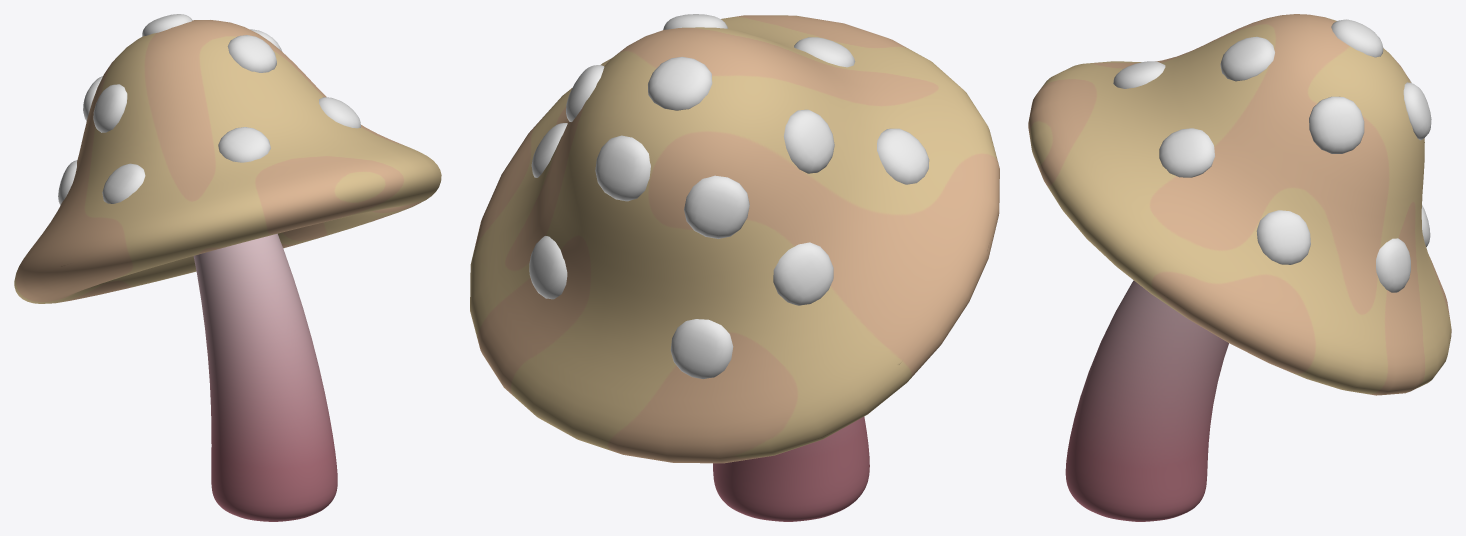
File: Mushroom.fbx
3 views of the same model, side by side, from view 1: azimuth 30°, elevation 25°; view 2: azimuth 150°, elevation 25°; view 3: azimuth 270°, elevation 25° (orthographic). The views are drawn at different scales.
Parts seen in each view (by area): view 1: mushroom, 柱体.006, 立方体.016, 立方体.017, 立方体.012, 立方体.015, 立方体, 立方体.008; view 2: mushroom, 柱体.006, 立方体.006, 立方体.004, 立方体.013, 立方体.007, 立方体.008, 立方体.012, 立方体.015, 立方体.005, 立方体.016, 立方体.003 (+2 smaller); view 3: mushroom, 柱体.006, 立方体.003, 立方体.002, 立方体, 立方体.017, 立方体.005, 立方体.008, 立方体.007, 立方体.016.
Part boxes in pixels (x1,y1,x2,y2): mushroom: [14, 20, 441, 303]; 柱体.006: [193, 233, 337, 521]; 立方体.016: [218, 127, 270, 162]; 立方体.017: [227, 35, 276, 72]; 立方体.012: [93, 84, 127, 132]; 立方体.015: [102, 163, 145, 203]; 立方体: [319, 97, 360, 128]; 立方体.008: [142, 14, 192, 36]; mushroom: [470, 15, 999, 463]; 柱体.006: [713, 417, 869, 521]; 立方体.006: [684, 175, 749, 238]; 立方体.004: [670, 319, 733, 379]; 立方体.013: [773, 242, 833, 305]; 立方体.007: [595, 135, 650, 201]; 立方体.008: [648, 56, 712, 110]; 立方体.012: [783, 109, 834, 173]; 立方体.015: [877, 128, 929, 184]; 立方体.005: [529, 236, 567, 299]; 立方体.016: [794, 37, 855, 67]; 立方体.003: [566, 65, 604, 121]; mushroom: [1028, 14, 1451, 395]; 柱体.006: [1065, 280, 1228, 521]; 立方体.003: [1309, 96, 1364, 153]; 立方体.002: [1256, 210, 1310, 264]; 立方体: [1159, 128, 1214, 177]; 立方体.017: [1220, 36, 1274, 81]; 立方体.005: [1376, 238, 1410, 292]; 立方体.008: [1331, 19, 1383, 57]; 立方体.007: [1403, 82, 1431, 140]; 立方体.016: [1113, 61, 1165, 88].
Bounding box in the file's own units: 338 × 388 × 418.
